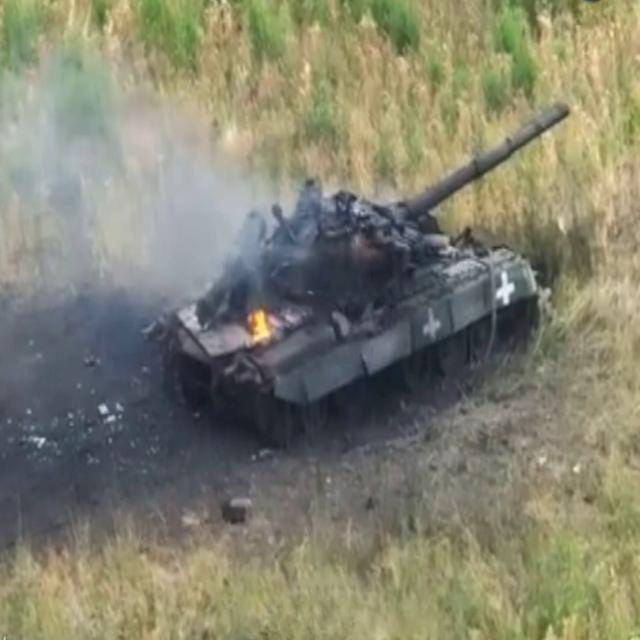MBT: (141, 101, 572, 473)
